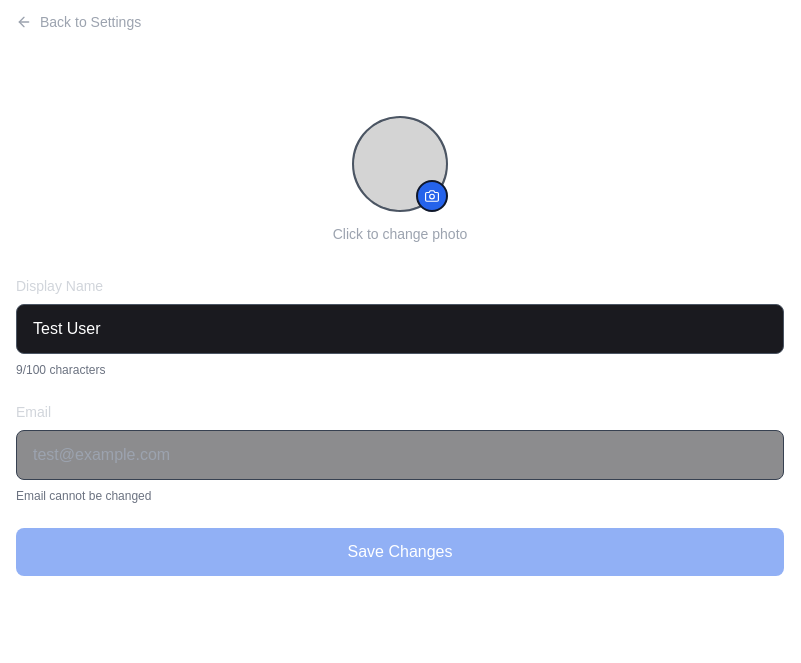
Test: ProfilePage › AC5: Error Handling › shows error message when profile update fails
Replace the text in the field labelled "Display Name" with "New Name" at (400, 329), box [16,304,784,354]
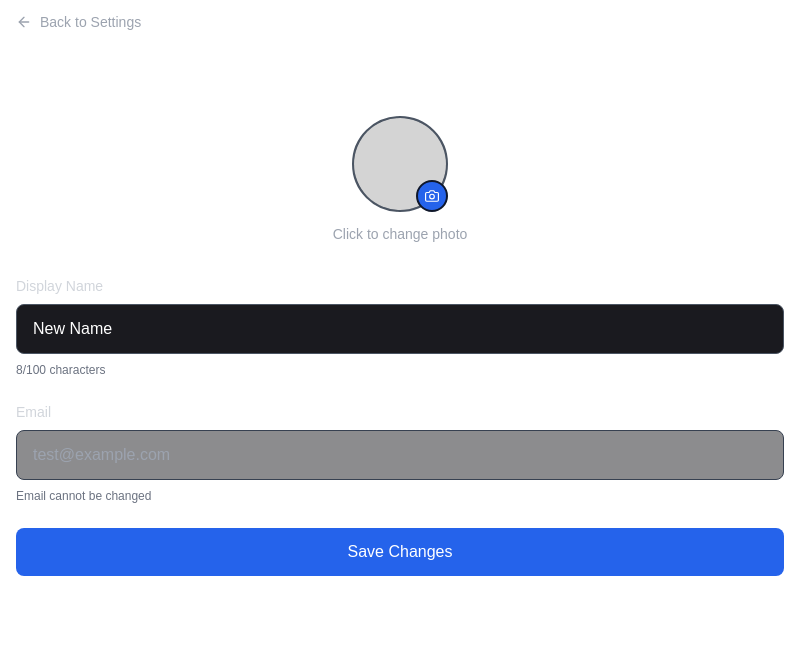
Click the button "Save Changes" at (400, 552), box [16,528,784,576]
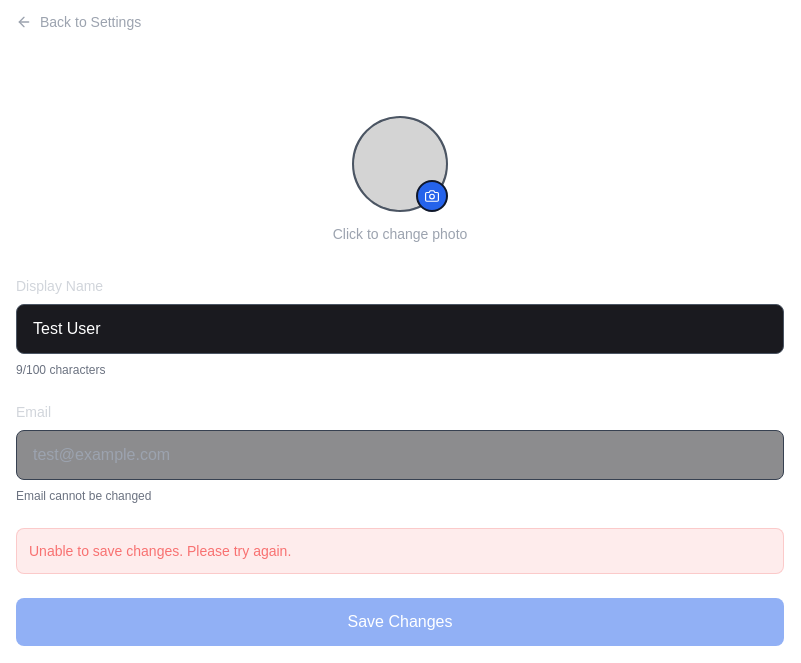
Now the text "Unable to save changes. Please try again." is shown, box [29,543,291,559]
